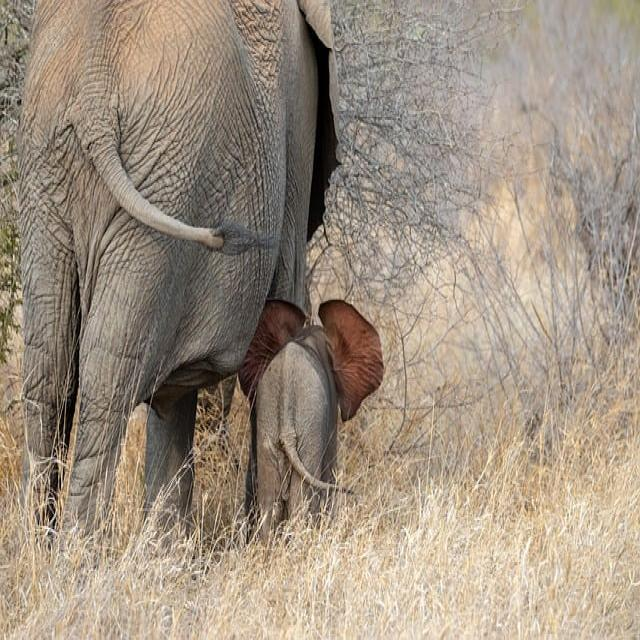Herbivorous: (17, 0, 338, 531), (236, 298, 382, 511)
